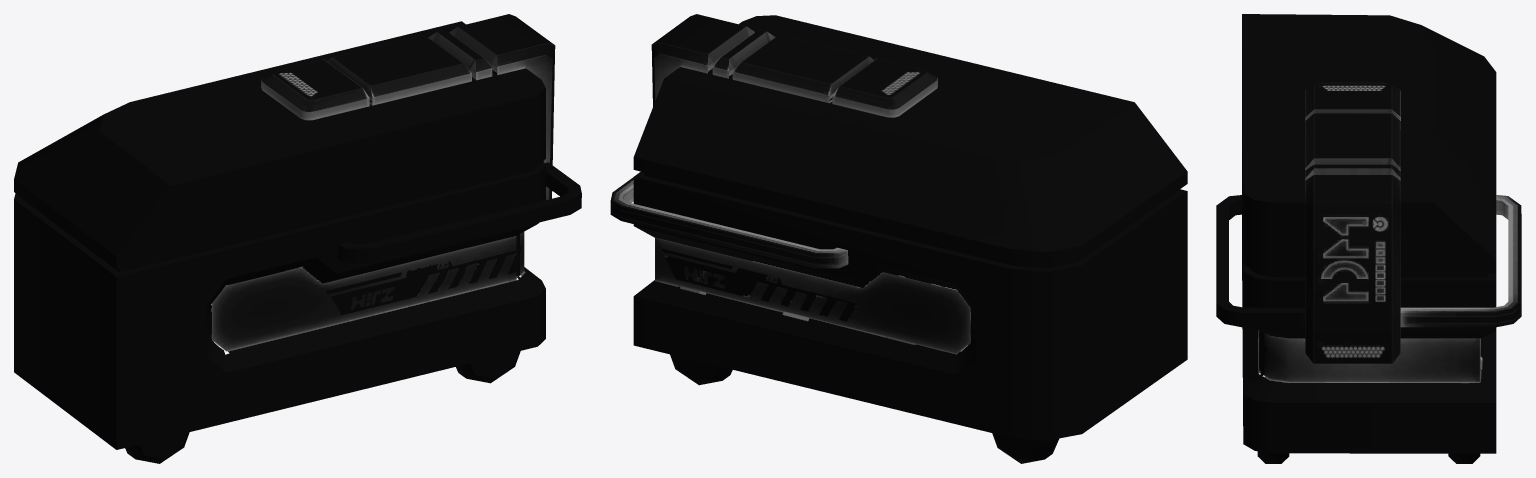
Rendered from propDumpster.glb.
3 renders of one model, left to right at view 1: azimuth 30°, elevation 25°; view 2: azimuth 150°, elevation 25°; view 3: azimuth 270°, elevation 25°, orthographic. The views are drawn at different scales.
Parts seen in each view (by area): view 1: propDumpster; view 2: propDumpster; view 3: propDumpster.
Part boxes in pixels (x1,y1,x2,y2): propDumpster: (14,14,581,463); propDumpster: (610,14,1187,463); propDumpster: (1216,14,1521,463).
Bounding box in the file's own units: 3.44 × 2.1 × 1.92.
1 material, 1 textured.
